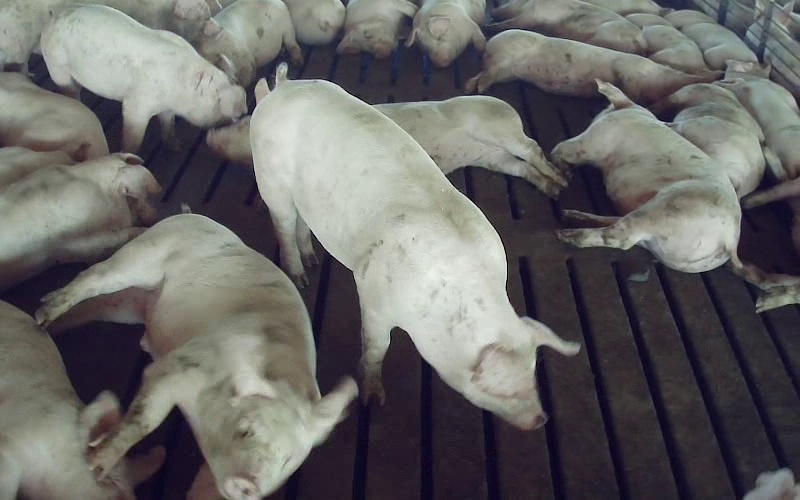pig: (36, 216, 357, 499), (551, 81, 741, 272), (40, 5, 246, 152), (0, 153, 161, 290), (375, 95, 566, 196), (465, 29, 719, 104), (654, 78, 764, 197), (719, 60, 799, 177), (195, 0, 302, 87), (493, 0, 646, 54), (665, 10, 757, 69), (406, 0, 485, 67), (626, 13, 708, 74), (337, 0, 416, 58), (283, 0, 345, 44)
